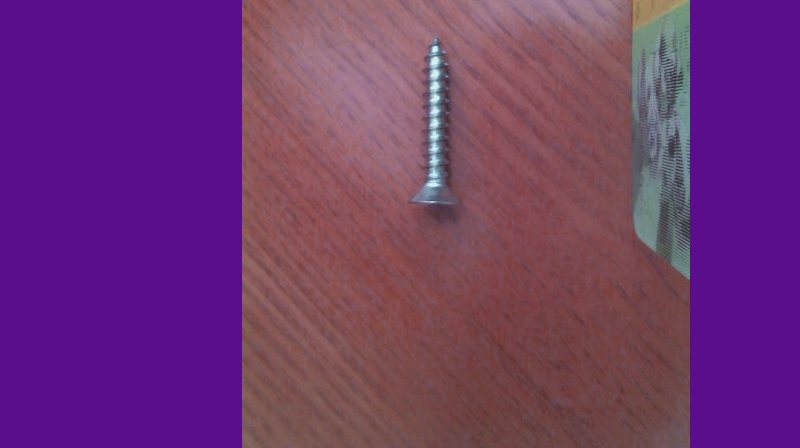S001: (406, 28, 465, 211)
